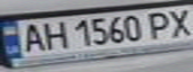0: (121, 12, 148, 43)
1: (69, 16, 93, 47)
5: (90, 15, 112, 46)
6: (106, 14, 127, 45)
A: (15, 20, 48, 53)
H: (36, 19, 69, 51)
P: (142, 9, 175, 40)
X: (163, 6, 193, 38)
